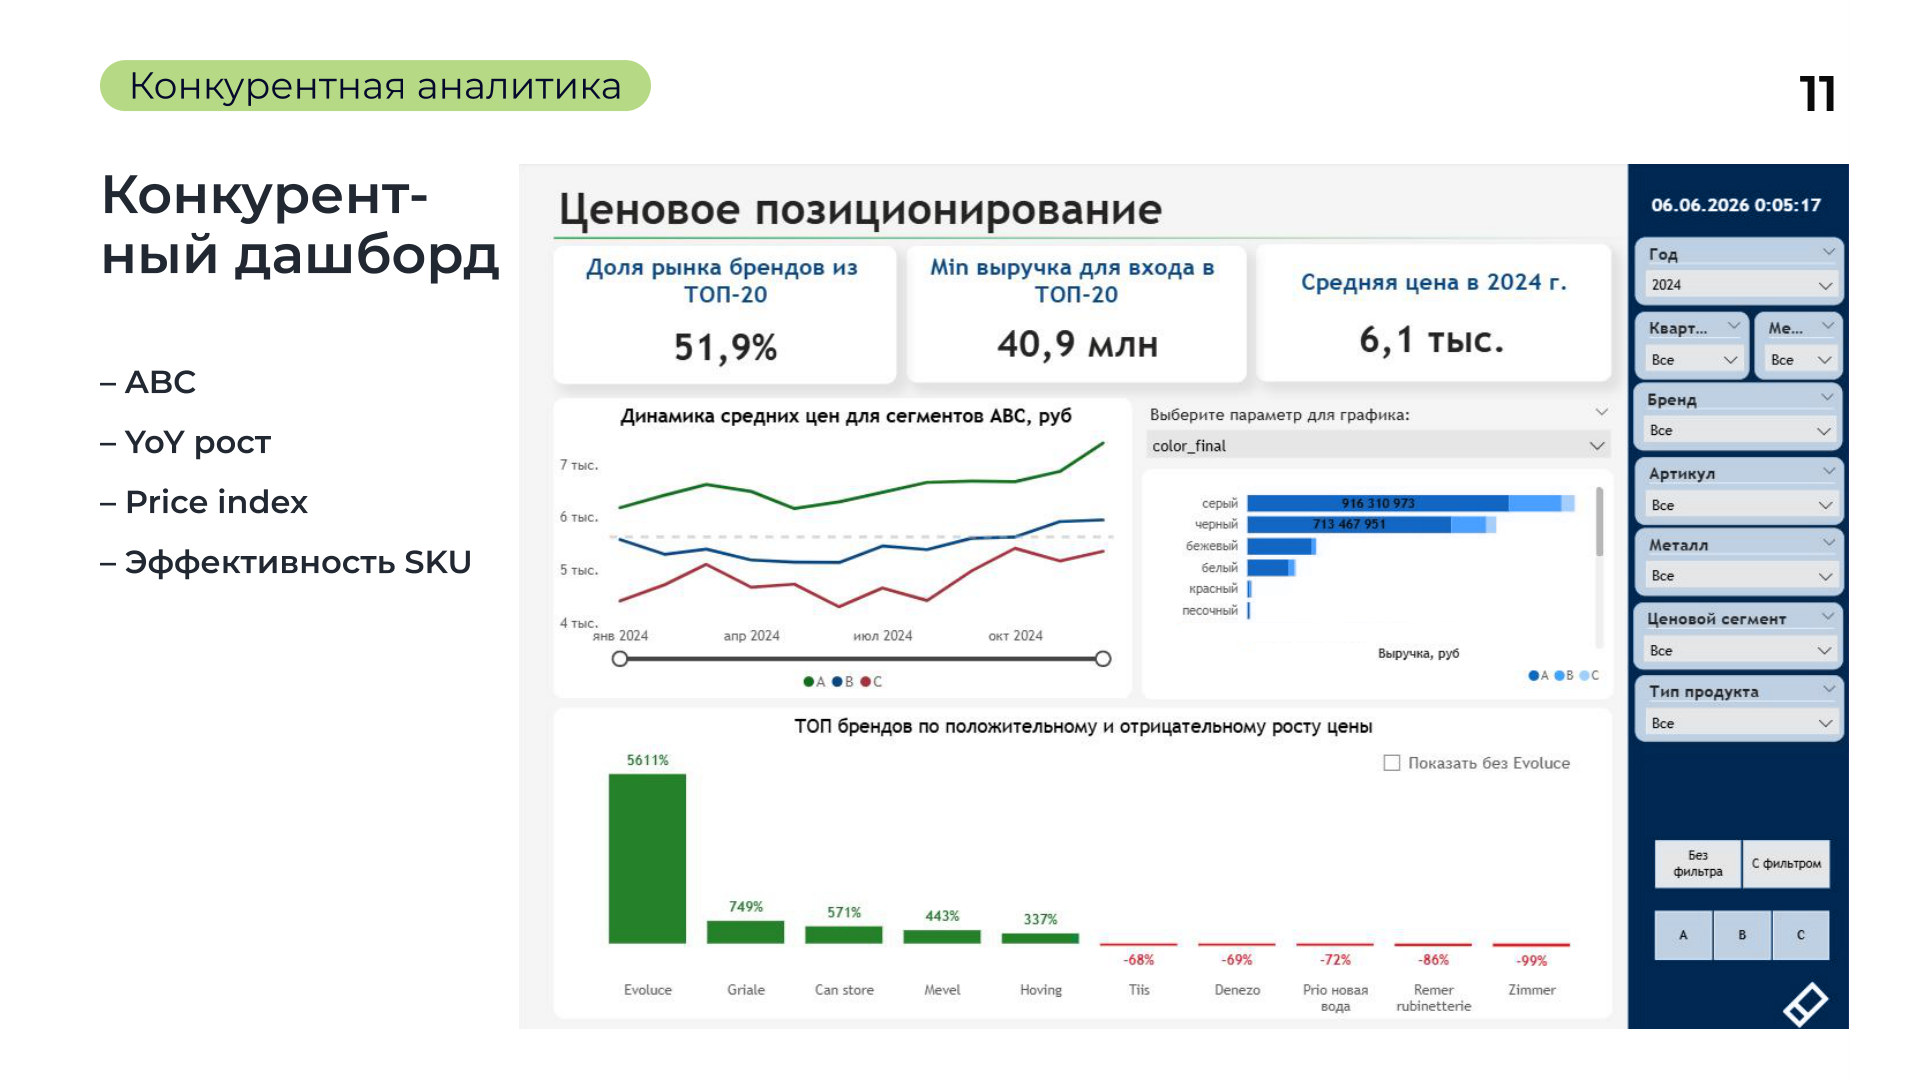

What the dashboard file says about the page in this screenshot:
{"tool":"powerbi","page":{"name":"Ценовое позиционирование","canvas":[1280,850],"ordinal":1},"visuals":[{"type":"image","box":[33.3,0,1051.7,151.7],"z":0},{"type":"shape","box":[708.3,81.7,341.7,131.7],"z":1000},{"type":"shape","box":[373,84,327,131],"z":2000},{"type":"shape","box":[33.6,83.6,330,132.7],"z":3000},{"type":"card","fields":{"Values":["Таблица мер.Доля_Топ20_брендов"]},"box":[33.3,129.2,330,87.5],"z":4000},{"type":"shape","box":[1067.5,0,212.5,850],"z":5000},{"type":"textbox","box":[33.2,15.9,1051.8,63.6],"z":6000},{"type":"slicer","fields":{"Values":["faucets_valid.year"]},"box":[1073.1,75.6,201.2,65],"z":7000},{"type":"slicer","fields":{"Values":["faucets_valid.quarter"]},"box":[1073.1,146.2,110,65],"z":8000},{"type":"card","fields":{"Values":["Таблица мер.Заголовок_3"]},"box":[32.5,70.8,330.8,85.8],"z":9000},{"type":"card","fields":{"Values":["Таблица мер.Заголовок_4"]},"box":[372.5,71.2,326.2,86.2],"z":10000},{"type":"card","fields":{"Values":["Min(Время обновления.Column1)"]},"box":[1066.9,24.4,213.1,46.2],"z":11000},{"type":"slicer","fields":{"Values":["faucets_valid.month.Изменение.Иерархия дат.Месяц"]},"box":[1188.1,146.2,85.6,65],"z":12000},{"type":"slicer","fields":{"Values":["faucets_valid.brand_clean"]},"box":[1072.5,215,201.2,65.6],"z":13000},{"type":"slicer","fields":{"Values":["faucets_valid.cat3_new"]},"box":[1067.1,647.4,212.9,60],"z":14000},{"type":"card","fields":{"Values":["Таблица мер.Порог_ТОП20"]},"box":[373.8,128.8,326.2,87.5],"z":15000},{"type":"slicer","fields":{"Values":["faucets_valid.article_name"]},"box":[1073.2,285.7,201.4,65],"z":16000},{"type":"slicer","fields":{"Values":["faucets_valid.metal_final"]},"box":[1073.3,355.2,201.4,65],"z":17000},{"type":"slicer","fields":{"Values":["faucets_valid.brand_abc"]},"box":[1067.5,716.2,212.5,61.2],"z":18000},{"type":"slicer","fields":{"Values":["faucets_valid.price_segment"]},"box":[1072.7,425.5,201.8,64.5],"z":19000},{"type":"slicer","fields":{"Values":["faucets_valid.brand_maturity"]},"box":[1072.6,496.2,202.1,64.3],"z":20000},{"type":"slicer","fields":{"Values":["faucets_valid.product_type"]},"box":[1073.6,566.4,202.1,64.3],"z":21000},{"type":"actionButton","box":[1212.5,787.5,62.5,52.5],"z":22000},{"type":"card","fields":{"Values":["Таблица мер.средняя цена"]},"box":[707.5,130,342.5,87.5],"z":23000},{"type":"card","fields":{"Values":["Таблица мер.Заголовок_5"]},"box":[708.3,83.3,343.3,68.3],"z":24000},{"type":"lineChart","title":"Динамика средних цен для сегментов ABC, руб","fields":{"Y":["Таблица мер.средняя цена"],"Category":["faucets_valid.month"],"Series":["faucets_valid.brand_abc"]},"box":[33.3,230,556.7,288.3],"z":25000},{"type":"clusteredColumnChart","title":"ТОП брендов по положительному и отрицательному росту цены","fields":{"Category":["faucets_valid.brand_clean"],"Y":["Таблица мер.Прирост YoY цены"]},"box":[33.3,528.3,1018.3,298.3],"z":26000},{"type":"slicer","fields":{"Values":["faucets_valid.Пользовательский"]},"box":[818.3,561.7,233.3,43.3],"z":27000},{"type":"barChart","fields":{"Category":["faucets_valid.brand_maturity"],"Y":["Sum(faucets_valid.revenue)"],"Series":["faucets_valid.brand_abc"]},"box":[598.8,297.5,453.8,221.2],"z":28000},{"type":"slicer","fields":{"Values":["Параметр.Параметр"]},"box":[595,230,461.2,67.5],"z":28001}]}

Visuals, with their boxes on the page's 1280x850 design canvas (x1, y1, x2, y2). These are canvas units, not pixel positions in the 1920x1080 screenshot, which may show the page scaled, cropped or inside an application window:
image: pyautogui.locateOnScreen(33, 0, 1085, 152)
shape: pyautogui.locateOnScreen(708, 82, 1050, 213)
shape: pyautogui.locateOnScreen(373, 84, 700, 215)
shape: pyautogui.locateOnScreen(34, 84, 364, 216)
card - Таблица мер.Доля_Топ20_брендов: pyautogui.locateOnScreen(33, 129, 363, 217)
shape: pyautogui.locateOnScreen(1068, 0, 1280, 850)
textbox: pyautogui.locateOnScreen(33, 16, 1085, 80)
slicer - faucets_valid.year: pyautogui.locateOnScreen(1073, 76, 1274, 141)
slicer - faucets_valid.quarter: pyautogui.locateOnScreen(1073, 146, 1183, 211)
card - Таблица мер.Заголовок_3: pyautogui.locateOnScreen(32, 71, 363, 157)
card - Таблица мер.Заголовок_4: pyautogui.locateOnScreen(372, 71, 699, 157)
card - Min(Время обновления.Column1): pyautogui.locateOnScreen(1067, 24, 1280, 71)
slicer - faucets_valid.month.Изменение.Иерархия дат.Месяц: pyautogui.locateOnScreen(1188, 146, 1274, 211)
slicer - faucets_valid.brand_clean: pyautogui.locateOnScreen(1072, 215, 1274, 281)
slicer - faucets_valid.cat3_new: pyautogui.locateOnScreen(1067, 647, 1280, 707)
card - Таблица мер.Порог_ТОП20: pyautogui.locateOnScreen(374, 129, 700, 216)
slicer - faucets_valid.article_name: pyautogui.locateOnScreen(1073, 286, 1275, 351)
slicer - faucets_valid.metal_final: pyautogui.locateOnScreen(1073, 355, 1275, 420)
slicer - faucets_valid.brand_abc: pyautogui.locateOnScreen(1068, 716, 1280, 777)
slicer - faucets_valid.price_segment: pyautogui.locateOnScreen(1073, 426, 1274, 490)
slicer - faucets_valid.brand_maturity: pyautogui.locateOnScreen(1073, 496, 1275, 560)
slicer - faucets_valid.product_type: pyautogui.locateOnScreen(1074, 566, 1276, 631)
actionButton: pyautogui.locateOnScreen(1212, 788, 1275, 840)
card - Таблица мер.средняя цена: pyautogui.locateOnScreen(708, 130, 1050, 218)
card - Таблица мер.Заголовок_5: pyautogui.locateOnScreen(708, 83, 1052, 152)
"Динамика средних цен для сегментов ABC, руб" lineChart: pyautogui.locateOnScreen(33, 230, 590, 518)
"ТОП брендов по положительному и отрицательному росту цены" clusteredColumnChart: pyautogui.locateOnScreen(33, 528, 1052, 827)
slicer - faucets_valid.Пользовательский: pyautogui.locateOnScreen(818, 562, 1052, 605)
barChart - faucets_valid.brand_maturity x Sum(faucets_valid.revenue): pyautogui.locateOnScreen(599, 298, 1053, 519)
slicer - Параметр.Параметр: pyautogui.locateOnScreen(595, 230, 1056, 298)
